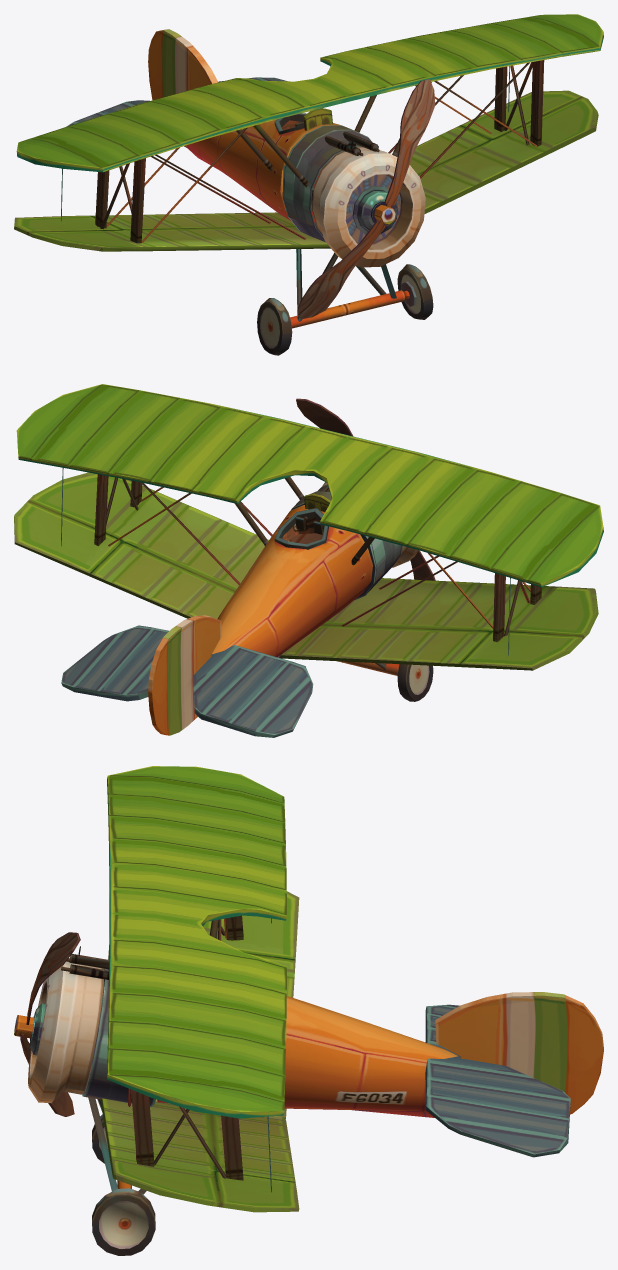
3 renders of one model, top to bottom at view 1: azimuth 30°, elevation 25°; view 2: azimuth 150°, elevation 25°; view 3: azimuth 270°, elevation 25°, orthographic. The views are drawn at different scales.
Parts seen in each view (by area): view 1: BODY; view 2: BODY; view 3: BODY.
Boxes of the visible parts, left/top/right/bottom form: BODY: left=14, top=14, right=603, bottom=355; BODY: left=14, top=384, right=603, bottom=737; BODY: left=14, top=766, right=603, bottom=1255.
Size of the model in its own units: 288 by 125 by 213.
